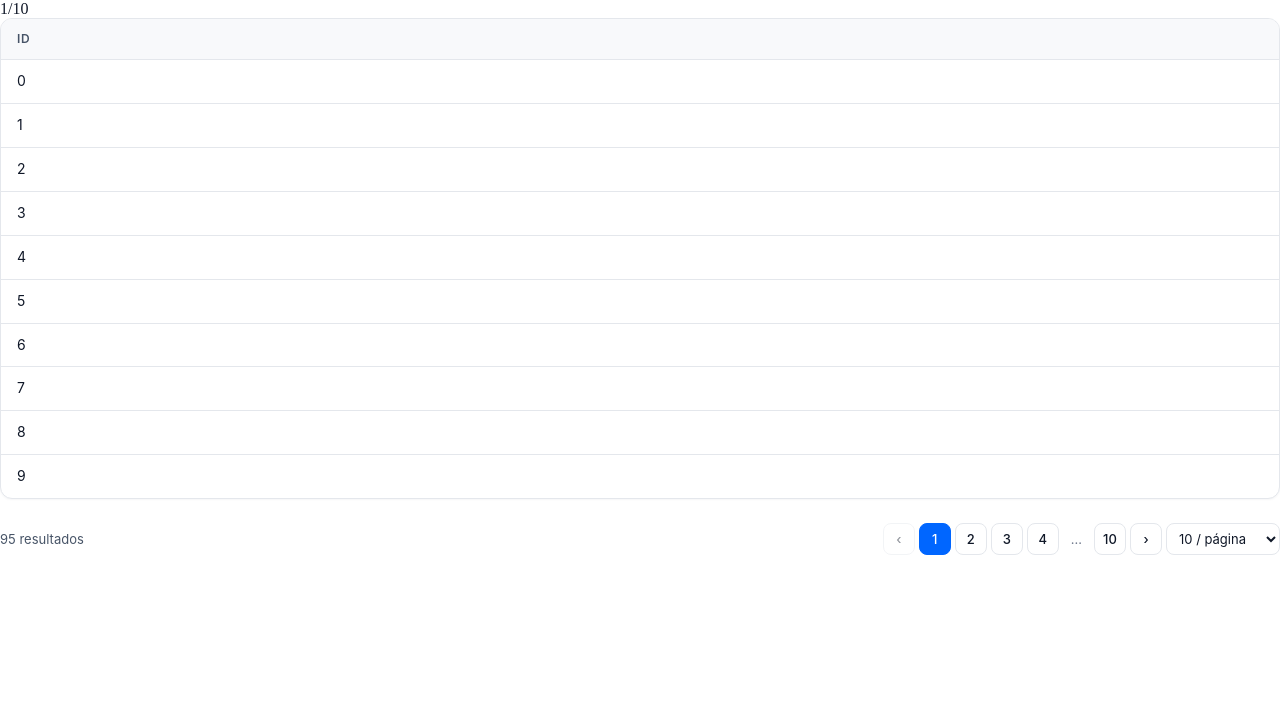
Test case: DataTable — items-per-page selector › shows the selector in the built-in footer and reports the size picked
Select "50 / página" in the dropdown named "Itens por página" at x=1223, y=539, box [1166,523,1279,555]
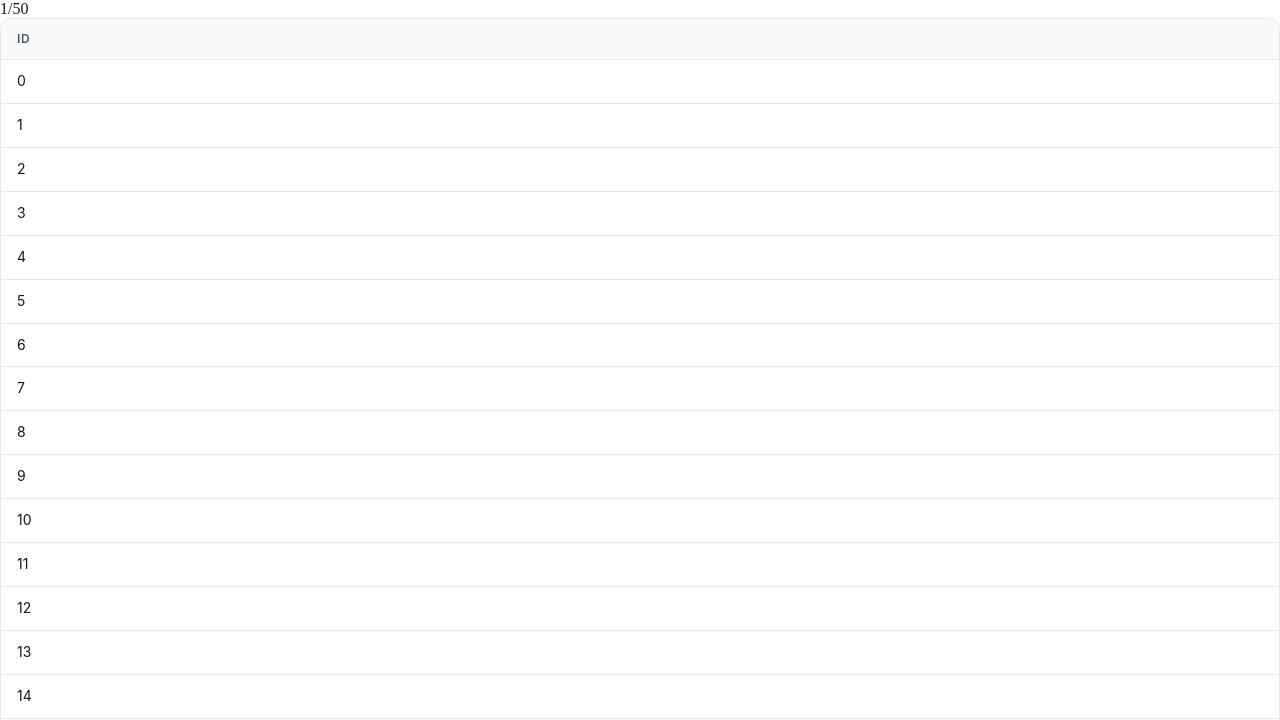
Expected: the text with test id "state" reads "1/50", [0,0,28,17]
